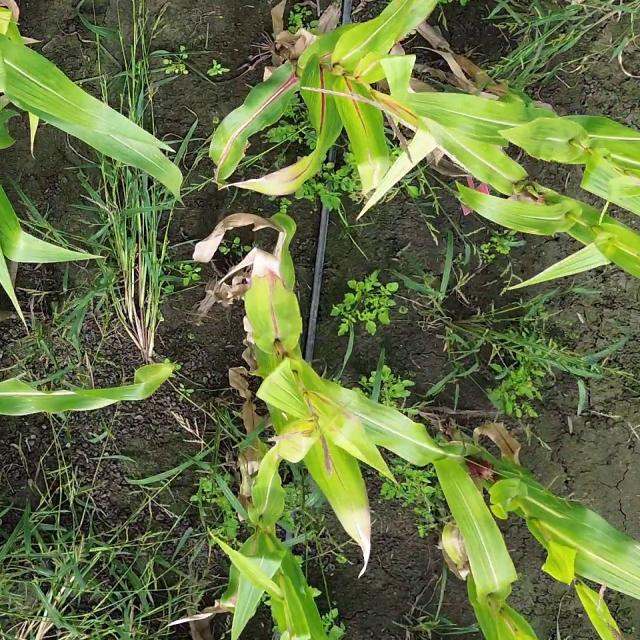northern-leaf-blight: (241, 244, 333, 359), (304, 76, 391, 176)
southern-leaf-blight: (5, 354, 67, 429)
